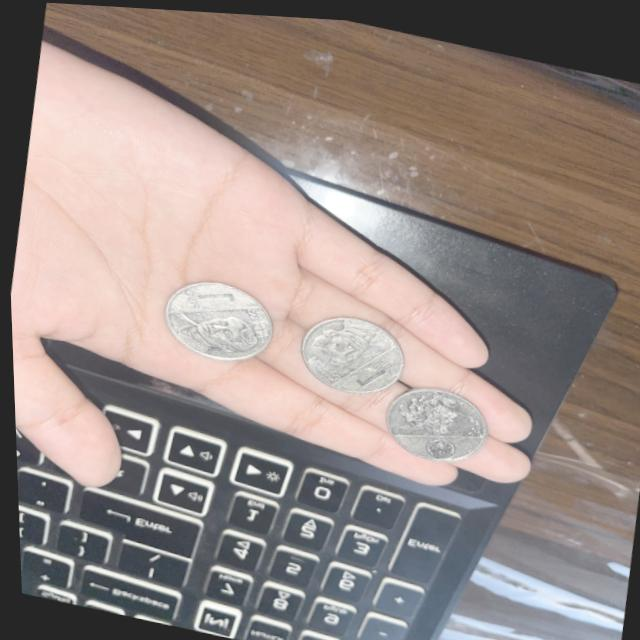1_New_Back: (392, 380, 472, 439)
1_New_Front: (176, 276, 239, 318), (347, 347, 399, 396)
